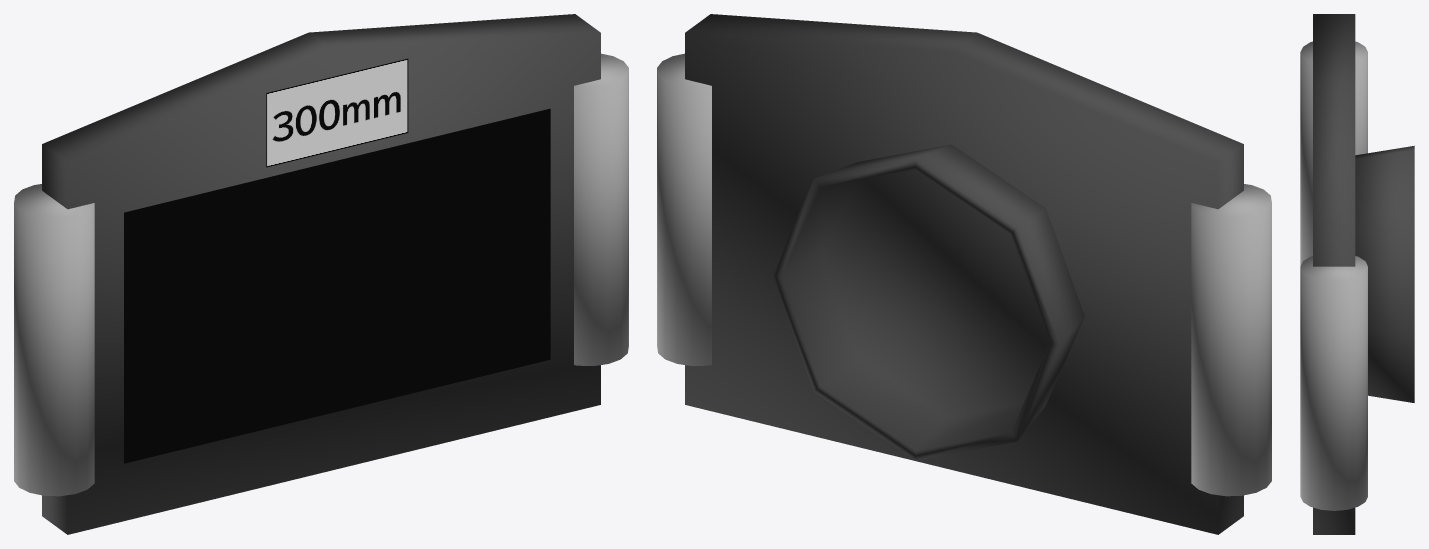
Rendered from emoji_8.glb.
3 renders of one model, left to right at view 1: azimuth 30°, elevation 25°; view 2: azimuth 150°, elevation 25°; view 3: azimuth 270°, elevation 25°, orthographic. The views are drawn at different scales.
Parts seen in each view (by area): view 1: camera_body, render_plate, mm; view 2: camera_body; view 3: camera_body.
Part boxes in pixels (box(x1,y1,x2,y2)): camera_body: box(14, 14, 628, 534); render_plate: box(124, 108, 550, 463); mm: box(266, 58, 408, 167); camera_body: box(657, 14, 1271, 534); camera_body: box(1300, 14, 1414, 534).
Size of the model in its own units: 0.68 by 0.45 by 0.135.
Materials: 4 (2 with a texture image).
